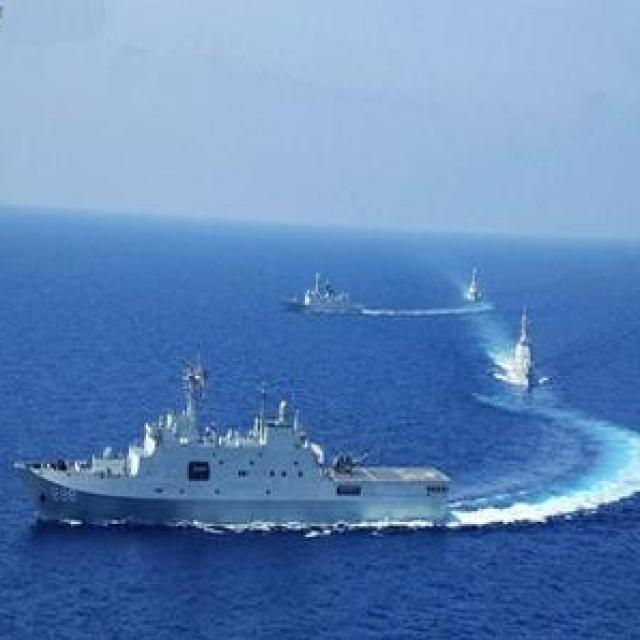navalvessels: (14, 350, 464, 522), (281, 262, 365, 314), (506, 307, 544, 388), (456, 261, 491, 307)
